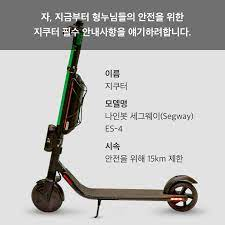kick_body: (83, 188, 164, 200)
kick_wheel: (166, 175, 198, 212), (32, 180, 64, 213)
